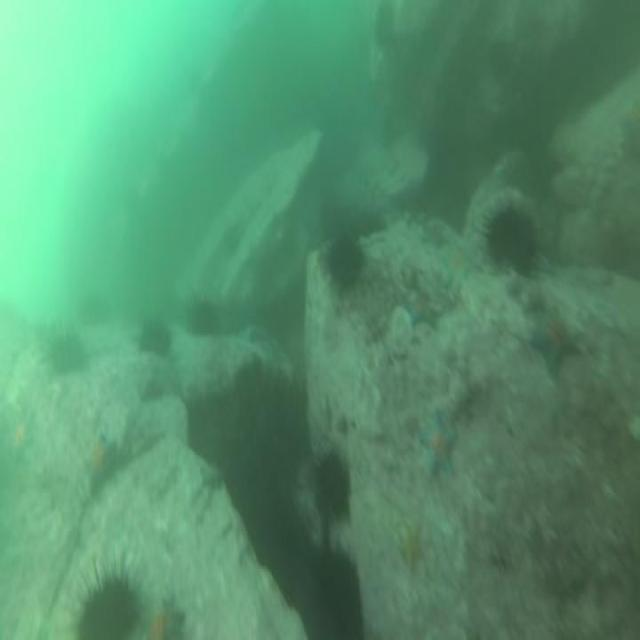echinus: (66, 551, 146, 640), (253, 498, 313, 608), (300, 540, 366, 640), (480, 199, 541, 278), (308, 449, 358, 529), (320, 230, 370, 298), (43, 329, 94, 381), (184, 291, 222, 338), (136, 316, 173, 356), (486, 36, 513, 84), (78, 290, 111, 328), (372, 0, 394, 54)
starfish: (532, 300, 582, 381), (418, 408, 459, 485), (83, 432, 121, 504), (396, 520, 434, 581), (144, 592, 191, 640), (6, 406, 38, 466), (402, 291, 446, 332), (444, 247, 476, 286), (418, 220, 453, 251), (198, 460, 227, 493)
